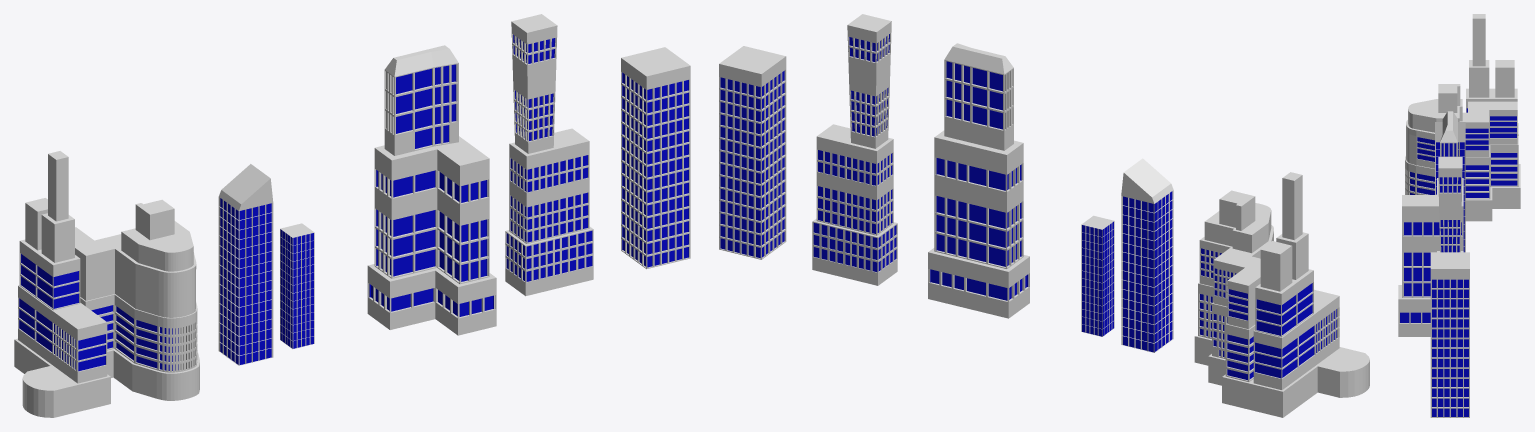
File: Skyscraberss.fbx
3 renders of one model, left to right at view 1: azimuth 30°, elevation 25°; view 2: azimuth 150°, elevation 25°; view 3: azimuth 270°, elevation 25°, orthographic. The views are drawn at different scales.
Parts seen in each view (by area): view 1: Cube.002, Cube.003, Cube.004, Cube.005, Cube.001, Cube; view 2: Cube.002, Cube.003, Cube.004, Cube.005, Cube.001, Cube; view 3: Cube.002, Cube.005, Cube.003, Cube.004, Cube.001.
Boxes of the visible parts, <box> form: Cube.002: <box>14,151,199,417</box>; Cube.003: <box>367,45,496,335</box>; Cube.004: <box>505,14,593,296</box>; Cube.005: <box>621,47,690,269</box>; Cube.001: <box>218,164,273,365</box>; Cube: <box>280,223,314,349</box>; Cube.002: <box>1194,172,1369,417</box>; Cube.003: <box>928,43,1029,318</box>; Cube.004: <box>812,14,897,285</box>; Cube.005: <box>719,46,786,259</box>; Cube.001: <box>1121,158,1173,352</box>; Cube: <box>1081,215,1114,336</box>; Cube.002: <box>1405,14,1520,221</box>; Cube.005: <box>1430,252,1469,417</box>; Cube.003: <box>1398,111,1463,336</box>; Cube.004: <box>1437,157,1463,252</box>; Cube.001: <box>1435,122,1465,252</box>.
Bounding box in the file's own units: 23538 × 8957 × 4935.
